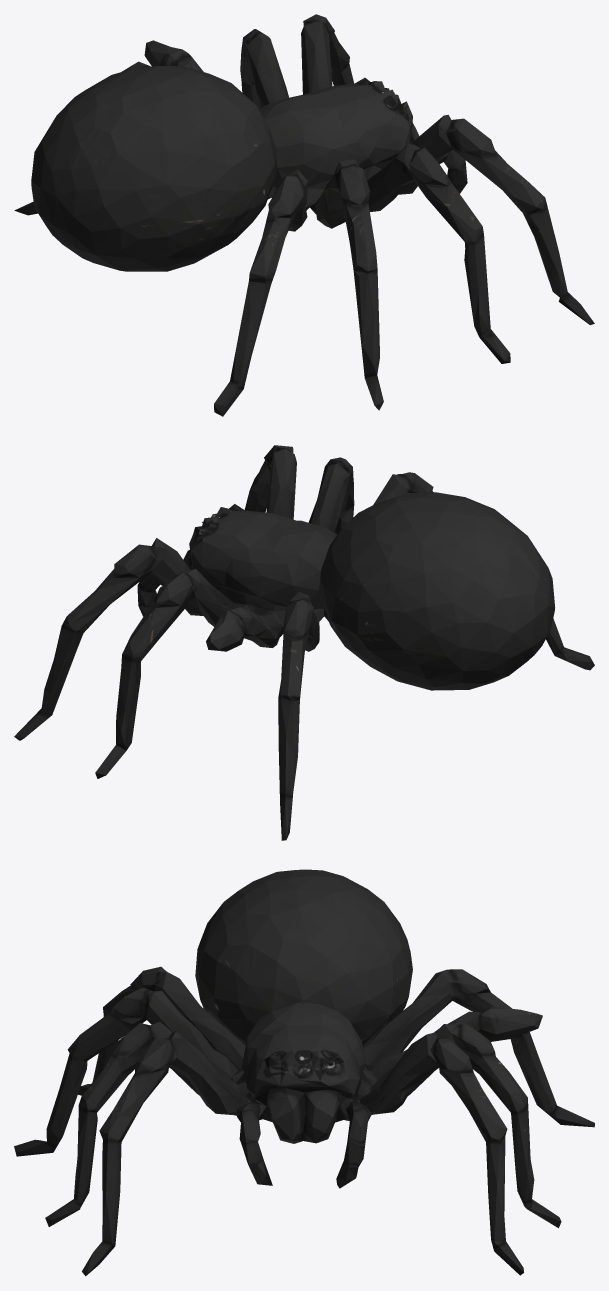
Rendered from tripo_convert_f31494b0-7b65-49eb-8e1f-e8799d2b9d48.obj.
3 renders of one model, top to bottom at view 1: azimuth 30°, elevation 25°; view 2: azimuth 150°, elevation 25°; view 3: azimuth 270°, elevation 25°, orthographic. The views are drawn at different scales.
Visible parts, largest first — view 1: tripo_node_f31494b0-7b65-49eb-8e1f-e8799d2b9d48; view 2: tripo_node_f31494b0-7b65-49eb-8e1f-e8799d2b9d48; view 3: tripo_node_f31494b0-7b65-49eb-8e1f-e8799d2b9d48.
Boxes of the visible parts, left/top/right/bottom form: tripo_node_f31494b0-7b65-49eb-8e1f-e8799d2b9d48: left=14, top=14, right=594, bottom=416; tripo_node_f31494b0-7b65-49eb-8e1f-e8799d2b9d48: left=14, top=445, right=594, bottom=840; tripo_node_f31494b0-7b65-49eb-8e1f-e8799d2b9d48: left=14, top=869, right=594, bottom=1276.
Size of the model in its own units: 0.8472 by 0.4555 by 0.9973.
1 material, 1 textured.
